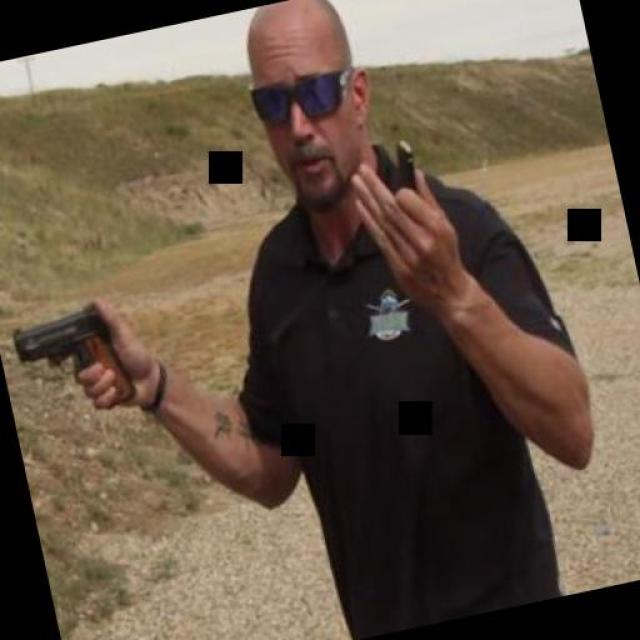gun: (2, 290, 138, 428)
